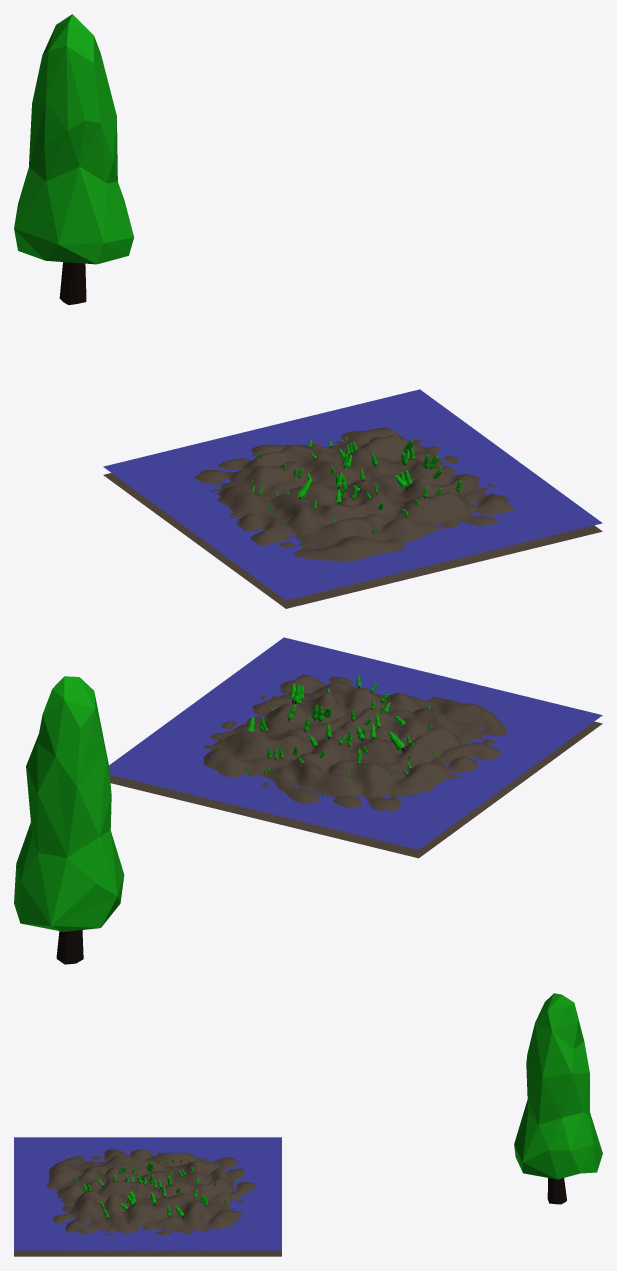
File: insulo.obj
3 views of the same model, one above another, from view 1: azimuth 30°, elevation 25°; view 2: azimuth 150°, elevation 25°; view 3: azimuth 270°, elevation 25° (orthographic). The views are drawn at different scales.
Parts seen in each view (by area): view 1: Landscape_plane, Landscape, leaves_Sphere; view 2: Landscape_plane, Landscape, leaves_Sphere; view 3: Landscape_plane, Landscape, leaves_Sphere.
Part boxes in pixels (bbox=[...]): Landscape_plane: bbox=[103, 389, 602, 600]; Landscape: bbox=[103, 427, 602, 608]; leaves_Sphere: bbox=[14, 14, 133, 304]; Landscape_plane: bbox=[109, 637, 602, 849]; Landscape: bbox=[109, 674, 602, 858]; leaves_Sphere: bbox=[14, 676, 124, 964]; Landscape_plane: bbox=[14, 1137, 281, 1250]; Landscape: bbox=[14, 1149, 281, 1256]; leaves_Sphere: bbox=[514, 993, 602, 1204].
Size of the model in its own units: 10 by 8.53 by 21.97.
